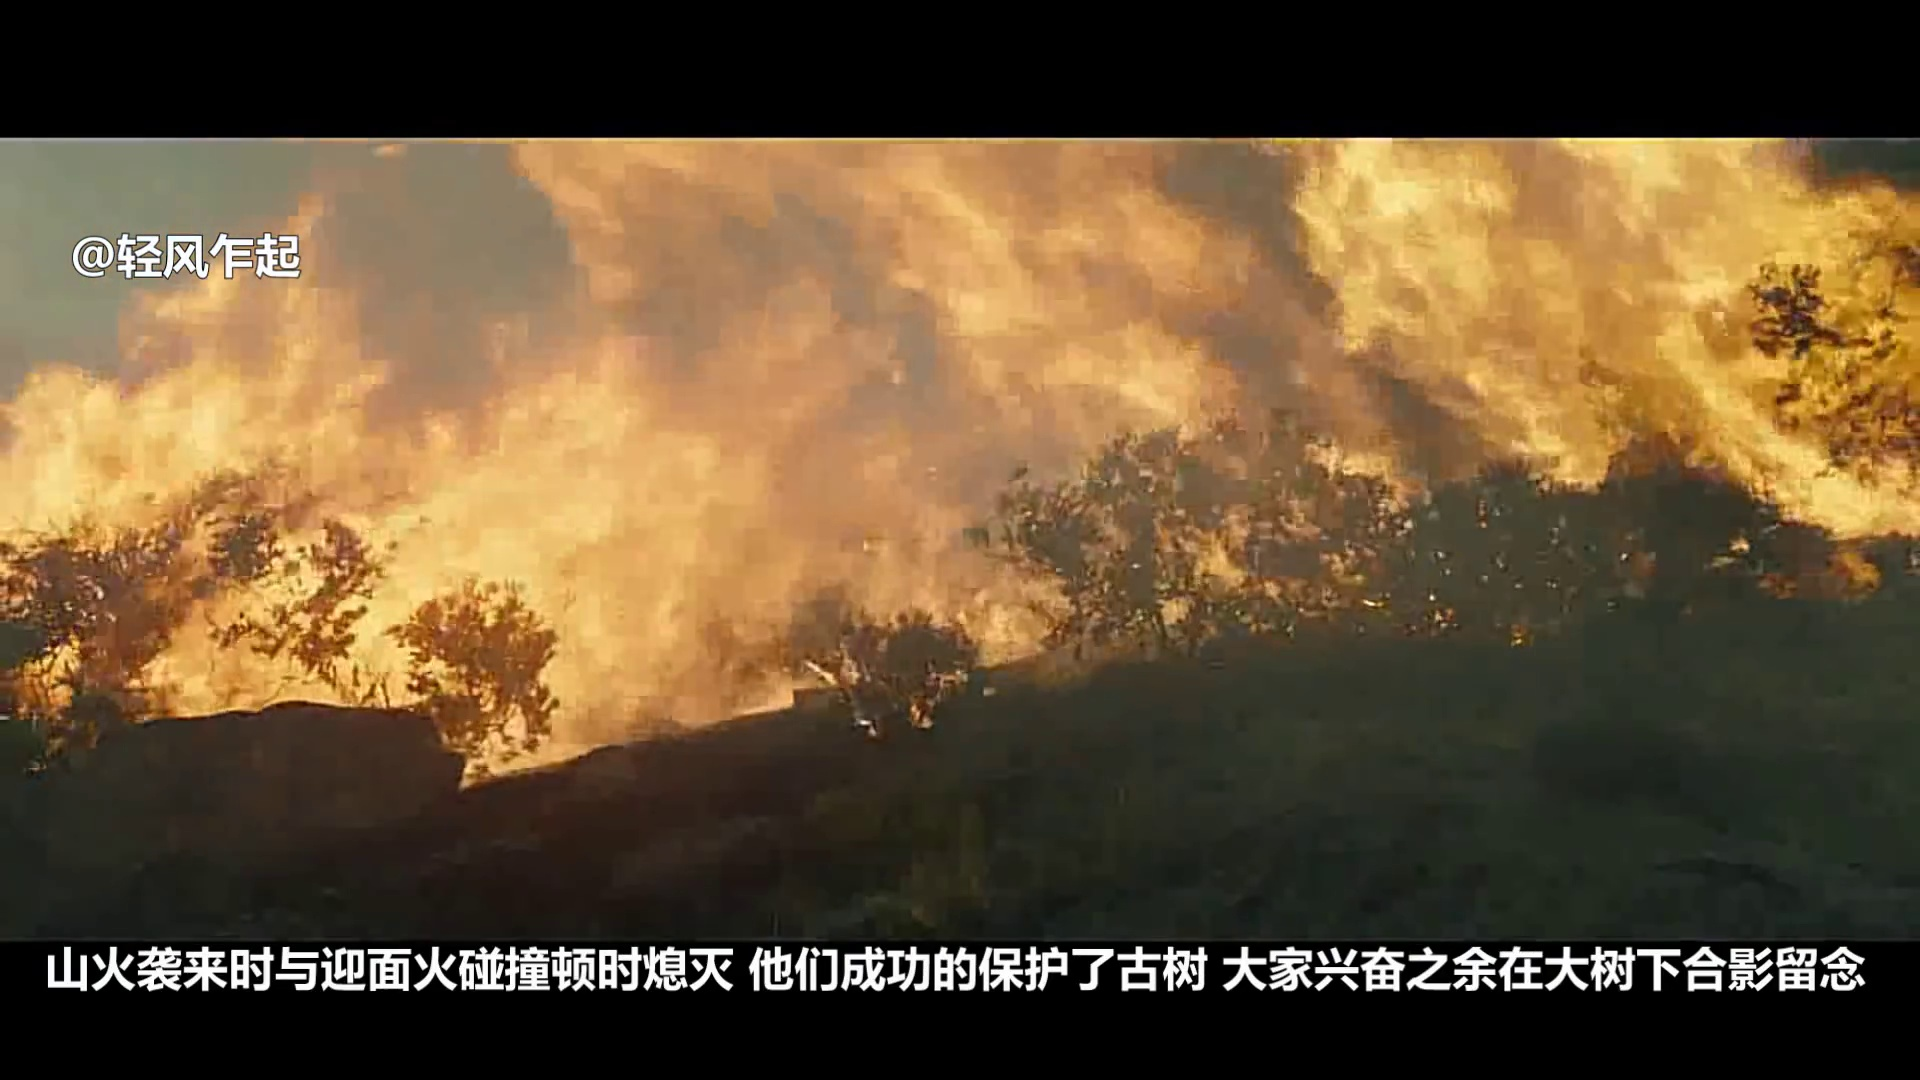fire: (1, 386, 748, 738), (1290, 132, 1920, 527), (880, 140, 1230, 425), (512, 135, 860, 258)
